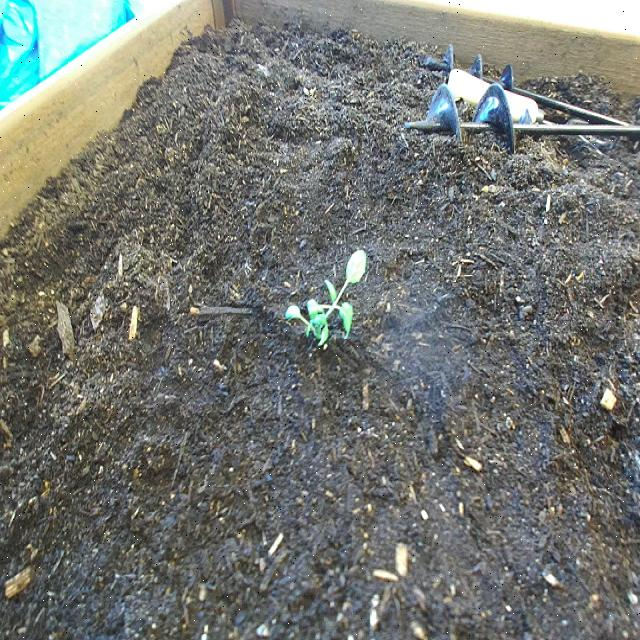Healthy: (283, 246, 369, 355)
